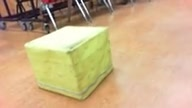cube: (24, 25, 113, 100)
